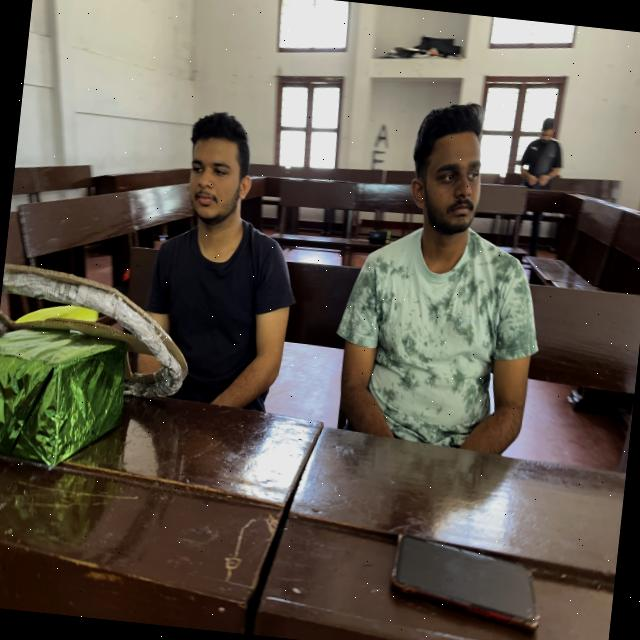Helmet: (329, 228, 547, 492), (130, 212, 308, 428)
